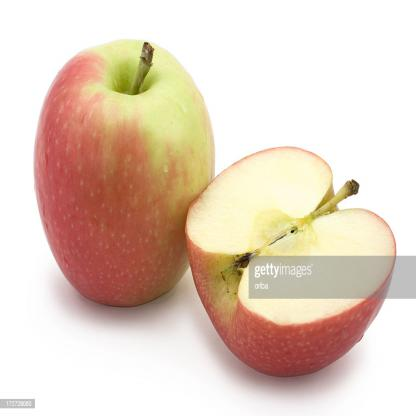Apple: (29, 24, 218, 322)
